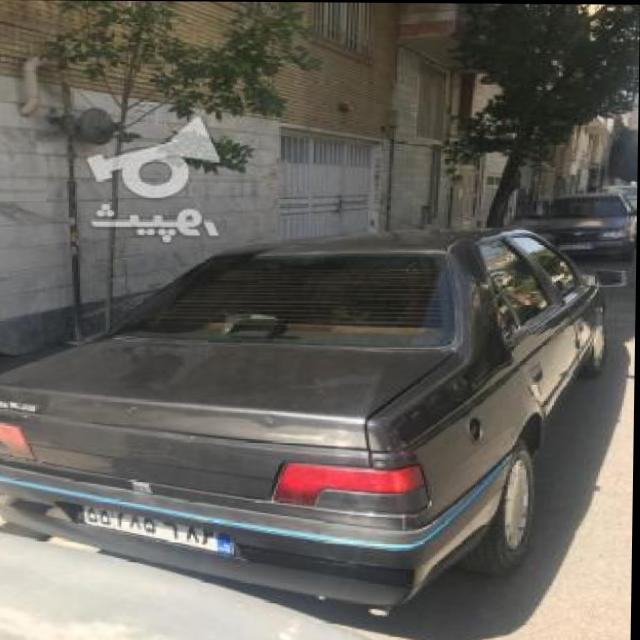licence: (80, 499, 240, 555)
